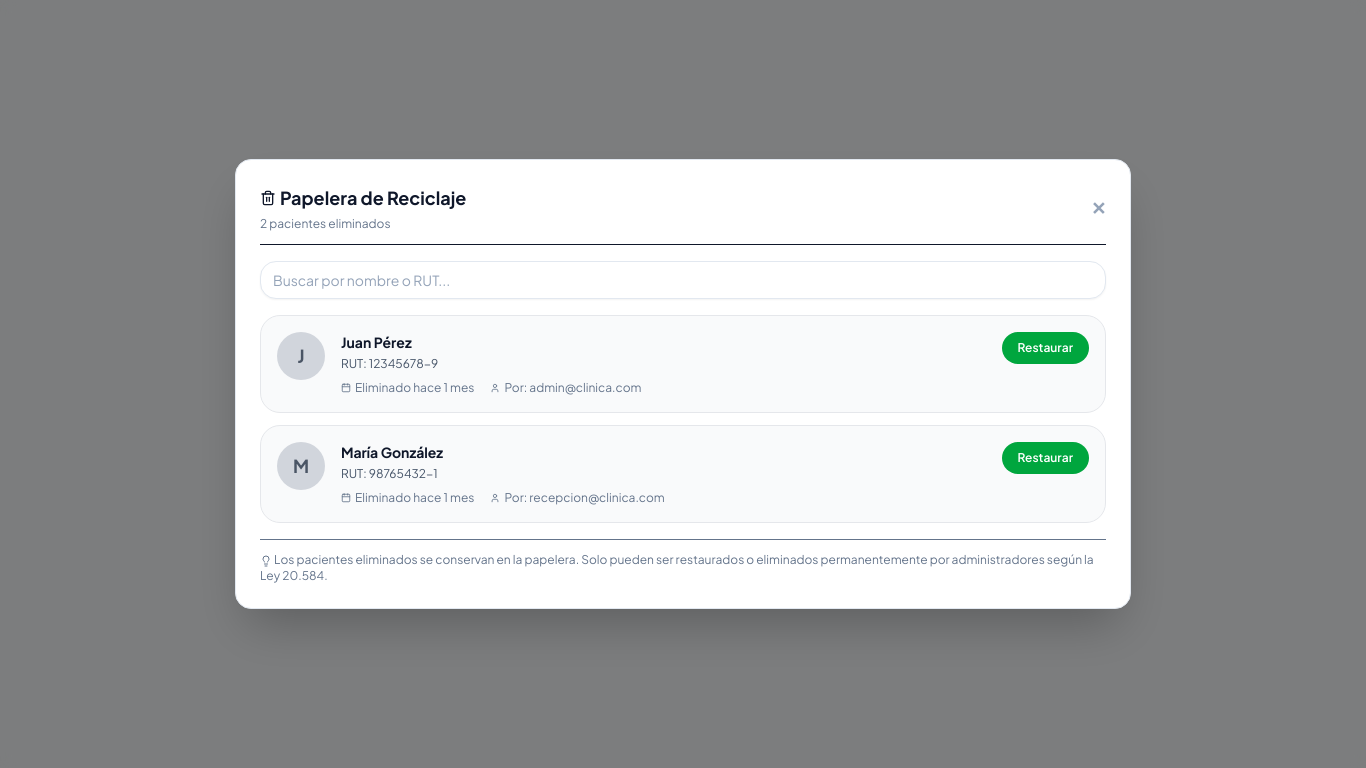
Test case: ModalPapelera (F6-L) › filtra pacientes por búsqueda de RUT
In the field with placeholder "Buscar por nombre o RUT...": (683, 280) top-left (260, 261), bottom-right (1106, 299), type "98765432"
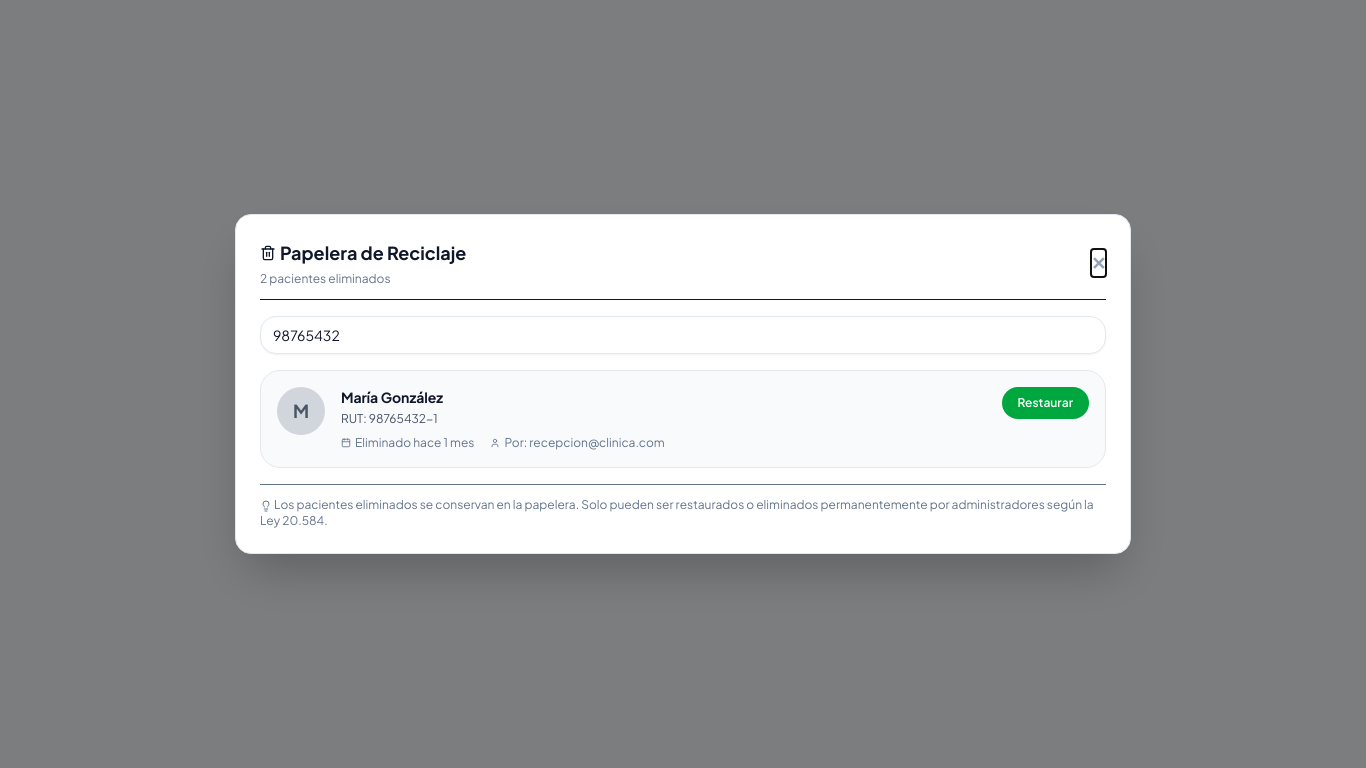
Expected: the heading "María González" is shown, top-left (341, 388), bottom-right (443, 406)
Result: the heading "Juan Pérez" is gone
